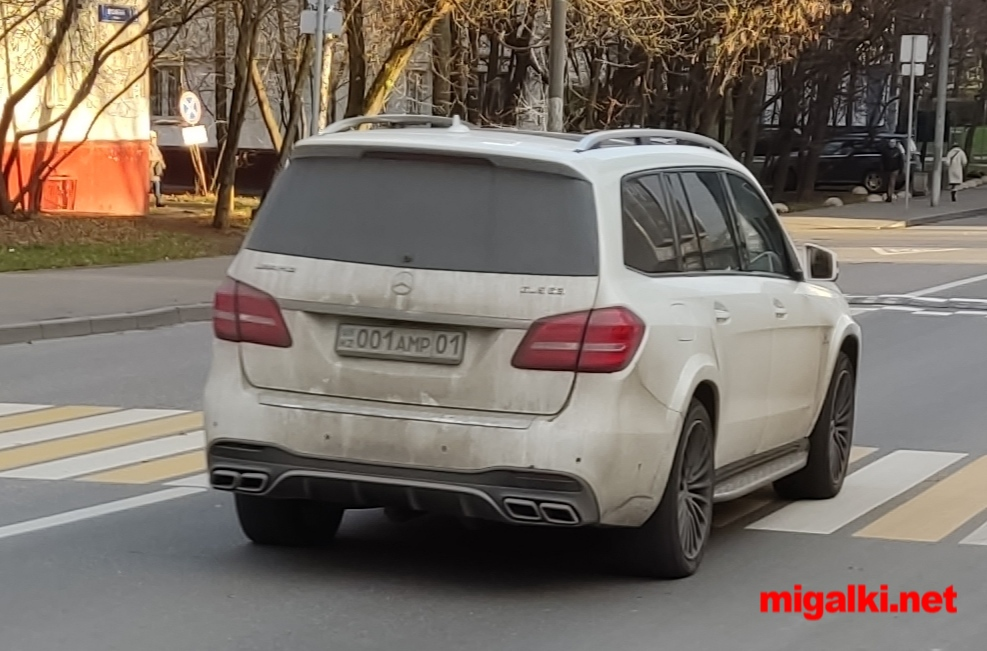license_plate: (334, 319, 464, 363)
